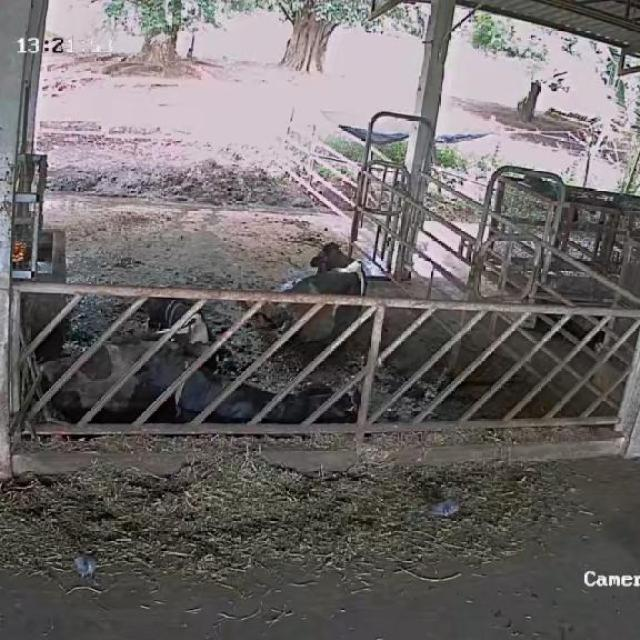lying down: (30, 289, 222, 427), (156, 335, 360, 435), (271, 238, 375, 344)
